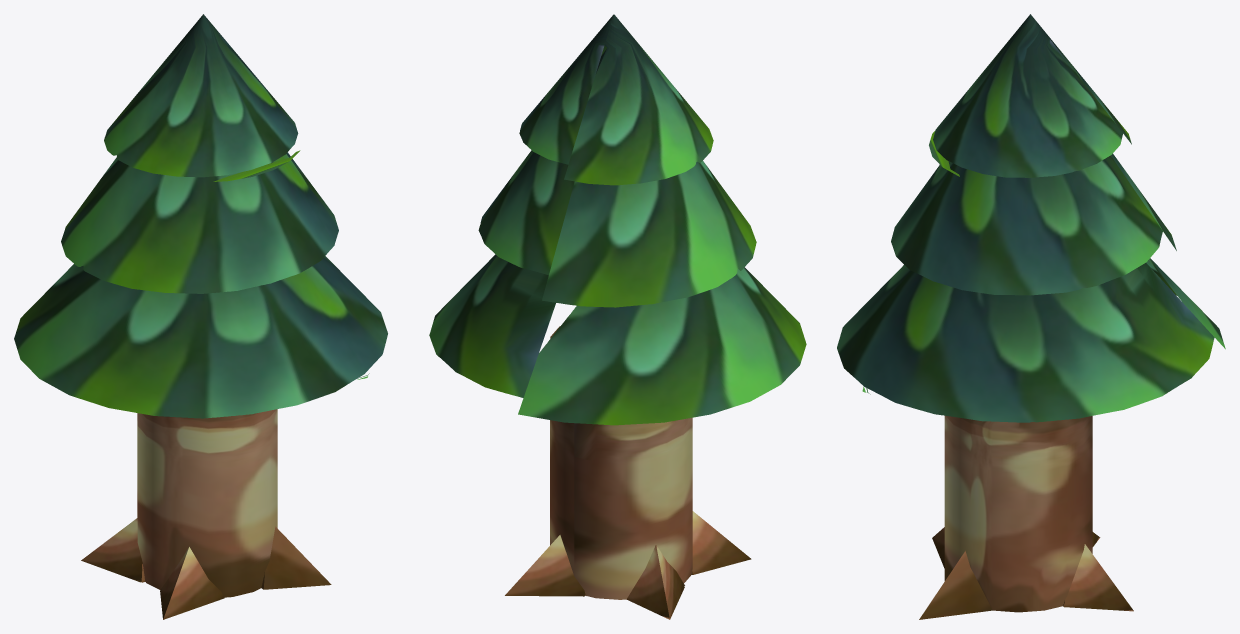
File: cedro.obj
3 renders of one model, left to right at view 1: azimuth 30°, elevation 25°; view 2: azimuth 150°, elevation 25°; view 3: azimuth 270°, elevation 25°, orthographic. The views are drawn at different scales.
Parts seen in each view (by area): view 1: Cone001, Cone002, Cylinder001, Cone003, Pyramid002, Pyramid001, Pyramid003; view 2: Cone001, Cone002, Cylinder001, Cone003, Pyramid004, Pyramid003, Pyramid002; view 3: Cone001, Cone002, Cylinder001, Cone003, Pyramid004, Pyramid001.
Boxes of the visible parts, x1=… form: Cone001: x1=14, y1=256, x2=387, y2=418; Cone002: x1=61, y1=152, x2=338, y2=293; Cylinder001: x1=137, y1=409, x2=277, y2=597; Cone003: x1=104, y1=14, x2=300, y2=181; Pyramid002: x1=160, y1=547, x2=224, y2=619; Pyramid001: x1=261, y1=526, x2=331, y2=589; Pyramid003: x1=81, y1=518, x2=145, y2=582; Cone001: x1=429, y1=254, x2=806, y2=425; Cone002: x1=478, y1=49, x2=756, y2=307; Cylinder001: x1=550, y1=326, x2=692, y2=599; Cone003: x1=519, y1=14, x2=713, y2=185; Pyramid004: x1=505, y1=535, x2=586, y2=596; Pyramid003: x1=626, y1=545, x2=684, y2=619; Pyramid002: x1=691, y1=511, x2=751, y2=574; Cone001: x1=837, y1=258, x2=1225, y2=422; Cone002: x1=891, y1=153, x2=1176, y2=295; Cylinder001: x1=944, y1=415, x2=1092, y2=612; Cone003: x1=929, y1=14, x2=1131, y2=177; Pyramid004: x1=1063, y1=544, x2=1133, y2=611; Pyramid001: x1=919, y1=551, x2=992, y2=619.
Size of the model in its own units: 63.93 by 102 by 63.73.
